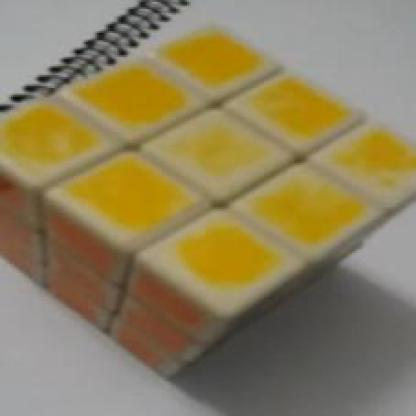cube: (0, 35, 409, 385)
